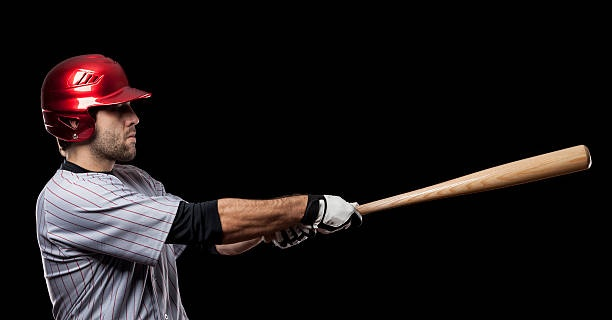bita: (356, 142, 594, 213)
